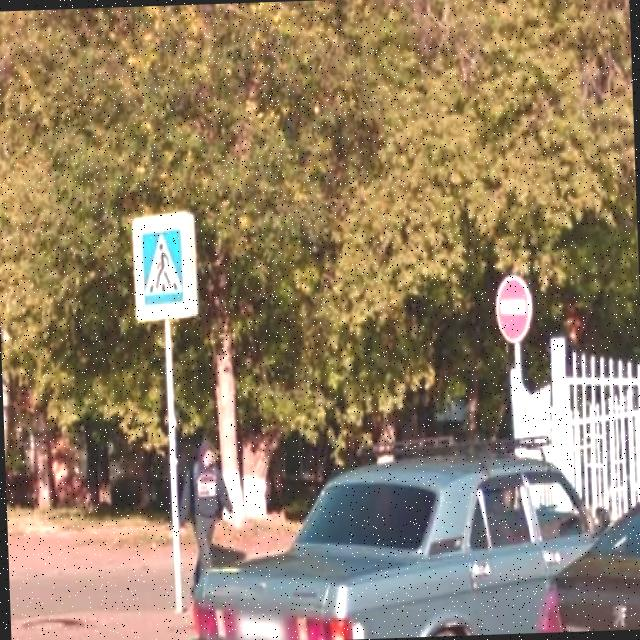Przejscie dla pieszych: (128, 208, 202, 328)
Zakaz wjazdu: (490, 270, 536, 346)
